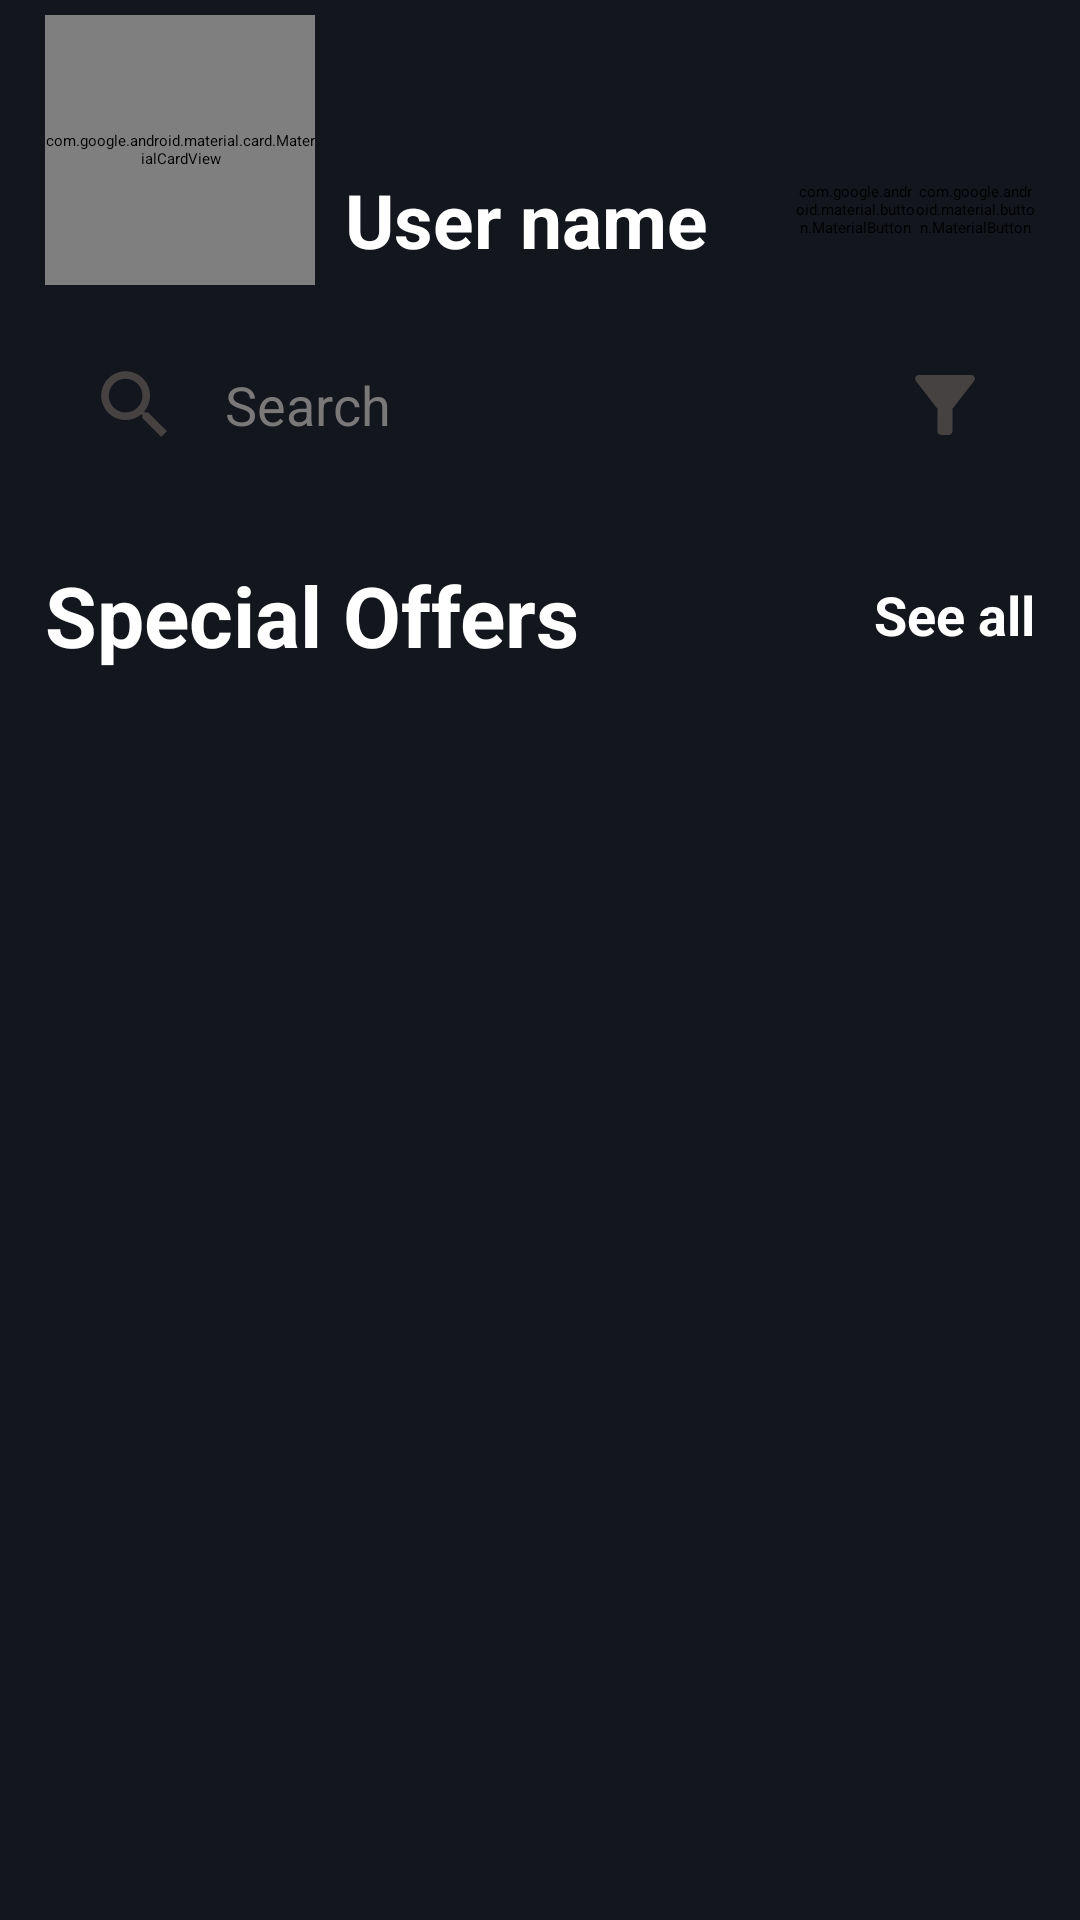

Named icons in this screenshot (1080px×1920px) and their centers, (x,y):
filter: (945,405)
